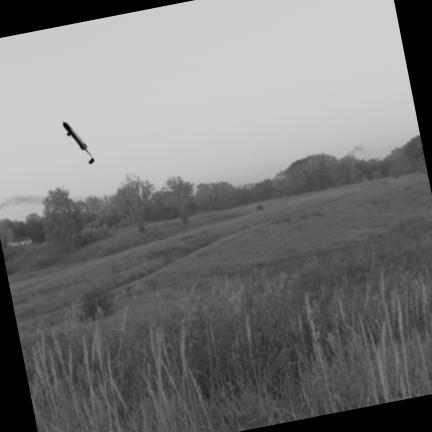Shahed: (62, 122, 94, 165)
